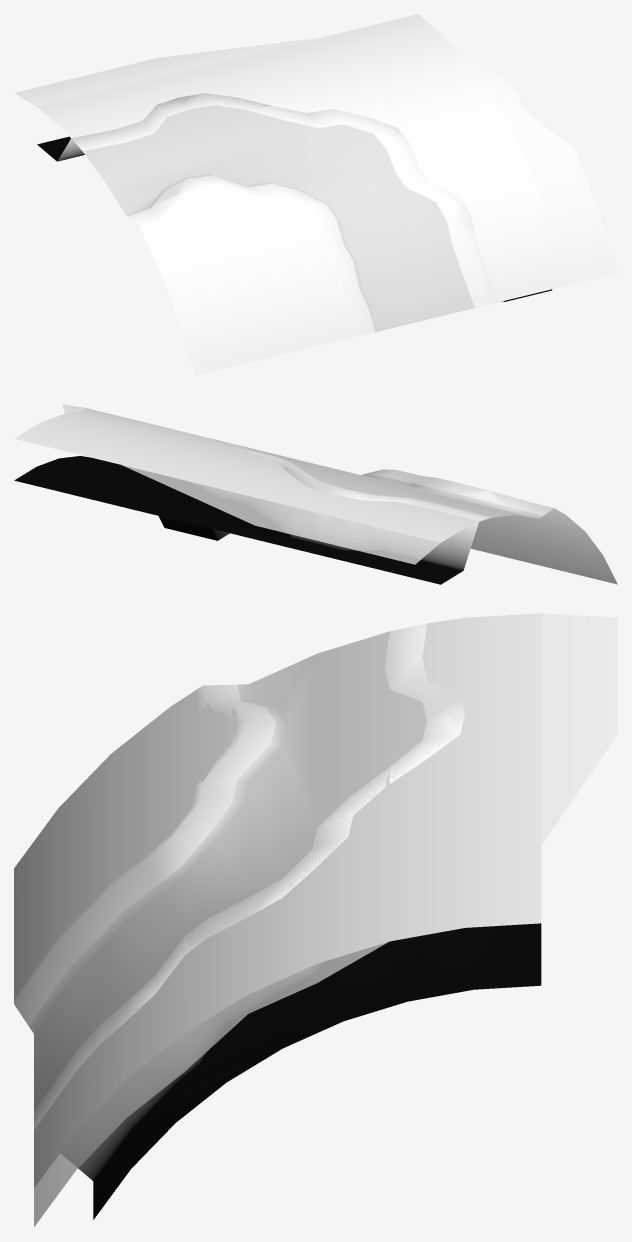
Rendered from grd_Ine_0.dae.
3 views of the same model, one above another, from view 1: azimuth 30°, elevation 25°; view 2: azimuth 150°, elevation 25°; view 3: azimuth 270°, elevation 25° (orthographic). The views are drawn at different scales.
Parts seen in each view (by area): view 1: ocean_4_0, beach_0_0, grass_3_0, wave_5_0, beach_1_0, beach_cliff_2_0; view 2: beach_1_0, ocean_4_0, wave_5_0, grass_3_0, beach_0_0, beach_cliff_2_0; view 3: ocean_4_0, beach_1_0, beach_0_0, wave_5_0, grass_3_0, beach_cliff_2_0.
Boxes of the visible parts, box(x1,y1,x2,y2) form: ocean_4_0: box(37, 14, 570, 307); beach_0_0: box(82, 105, 474, 332); grass_3_0: box(139, 182, 355, 375); wave_5_0: box(14, 37, 617, 284); beach_1_0: box(37, 93, 552, 307); beach_cliff_2_0: box(128, 175, 377, 336); beach_1_0: box(14, 439, 490, 584); ocean_4_0: box(14, 410, 489, 542); wave_5_0: box(62, 404, 478, 564); grass_3_0: box(470, 508, 617, 584); beach_0_0: box(239, 445, 542, 518); beach_cliff_2_0: box(362, 469, 553, 515); ocean_4_0: box(34, 613, 541, 1188); beach_1_0: box(34, 623, 541, 1219); beach_0_0: box(29, 631, 426, 1110); wave_5_0: box(34, 613, 617, 1226); grass_3_0: box(14, 691, 244, 998); beach_cliff_2_0: box(14, 684, 275, 1033).
Size of the model in its own units: 576 by 228 by 421.
6 materials, 1 textured.
